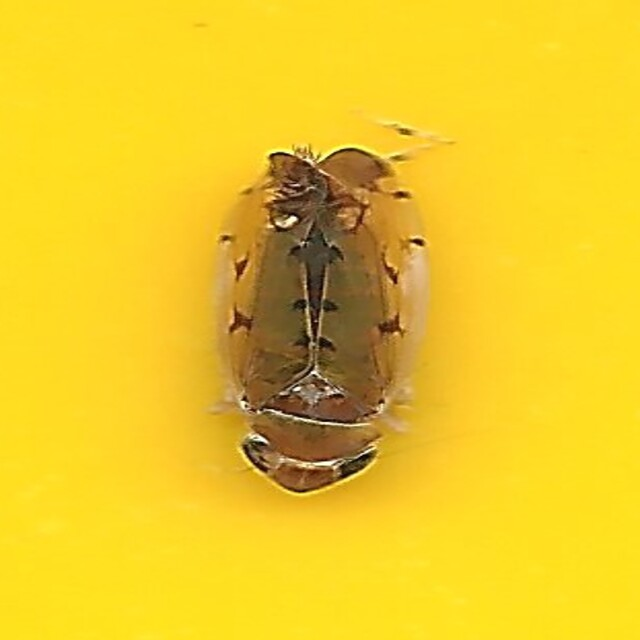Hemiptera: (206, 141, 434, 499)
